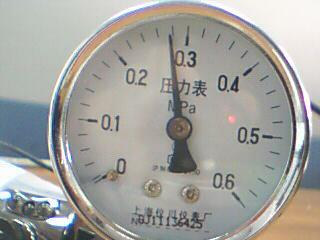0: (114, 157, 127, 175)
0.1: (99, 111, 120, 133)
0.2: (124, 65, 149, 88)
0.3: (173, 47, 199, 69)
0.4: (217, 72, 240, 94)
0.5: (237, 124, 260, 146)
0.6: (210, 171, 235, 191)
center: (169, 118, 191, 139)
